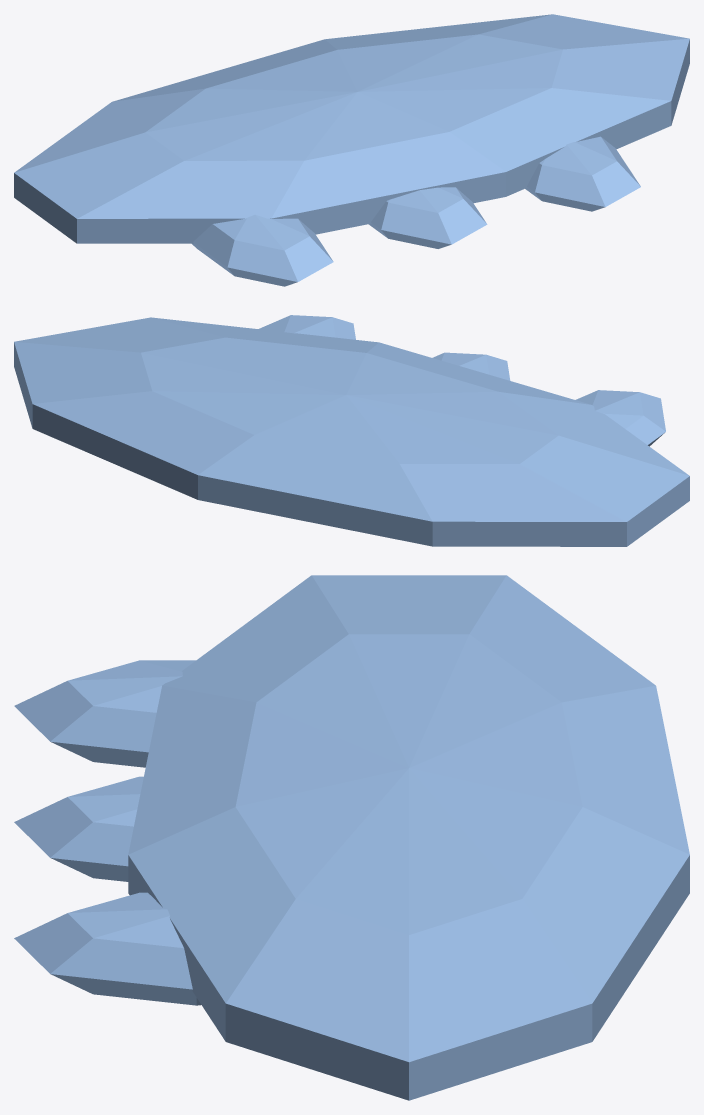
Rendered from loro_ala_azul.glb.
3 views of the same model, one above another, from view 1: azimuth 30°, elevation 25°; view 2: azimuth 150°, elevation 25°; view 3: azimuth 270°, elevation 25° (orthographic). The views are drawn at different scales.
Visible parts, largest first — view 1: loro_ala_azul; view 2: loro_ala_azul; view 3: loro_ala_azul.
Boxes of the visible parts, bbox=[...] form: loro_ala_azul: bbox=[14, 14, 689, 286]; loro_ala_azul: bbox=[14, 315, 689, 546]; loro_ala_azul: bbox=[14, 575, 689, 1100].
Size of the model in its own units: 0.9224 by 0.11 by 0.541.
